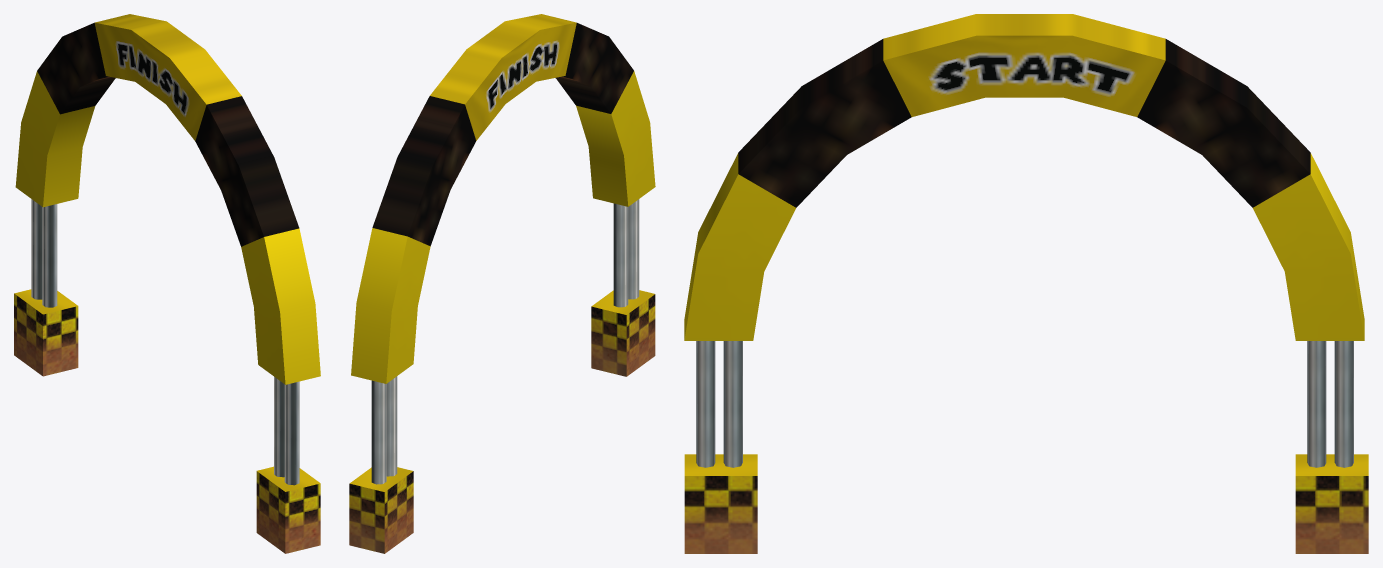
The model's file is start_arch.FBX.
3 renders of one model, left to right at view 1: azimuth 30°, elevation 25°; view 2: azimuth 150°, elevation 25°; view 3: azimuth 270°, elevation 25°, orthographic. The views are drawn at different scales.
Parts seen in each view (by area): view 1: Cylinder001; view 2: Cylinder001; view 3: Cylinder001.
Boxes of the visible parts, box(x1,y1,x2,y2) form: Cylinder001: box(14, 14, 320, 553); Cylinder001: box(349, 14, 655, 553); Cylinder001: box(684, 14, 1368, 553).
Bounding box in the file's own units: 70.33 × 781 × 935.
Materials: 1 (1 with a texture image).
